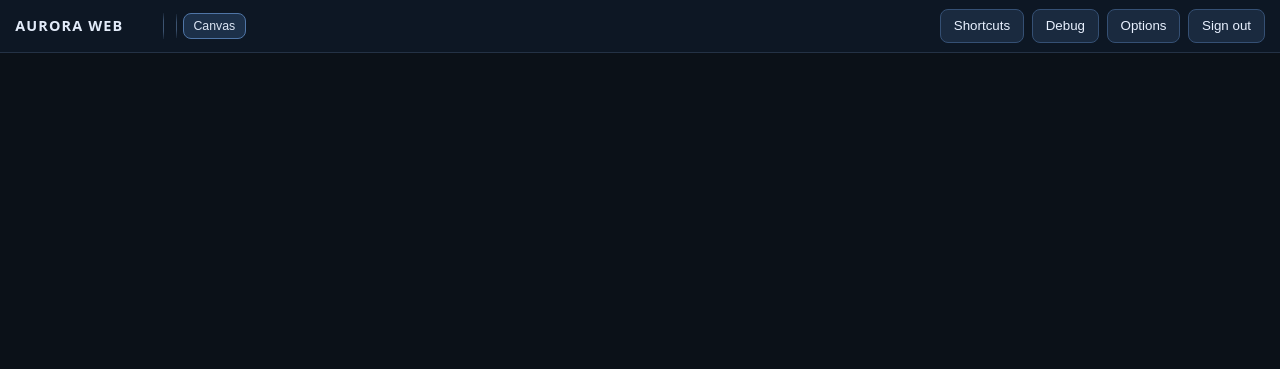
Test: WorkspaceTopbar facades injection › renders VT gizmo buttons with MVP titles in canvas drawer
Click the button "Canvas" at (214, 26), box [183,13,246,39]
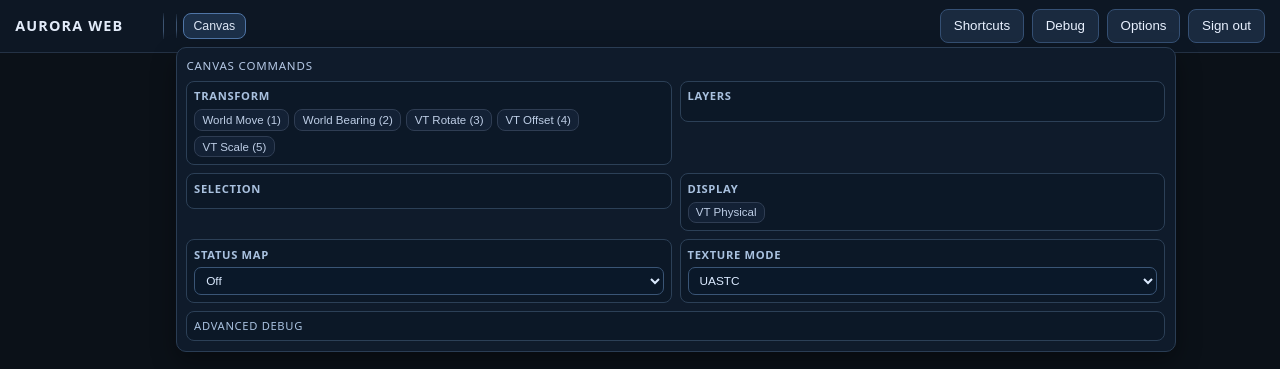
Result: the button "VT Scale (5)" is enabled at [194,136,275,157]
Result: the button "VT Physical" is enabled at [688,202,765,223]
